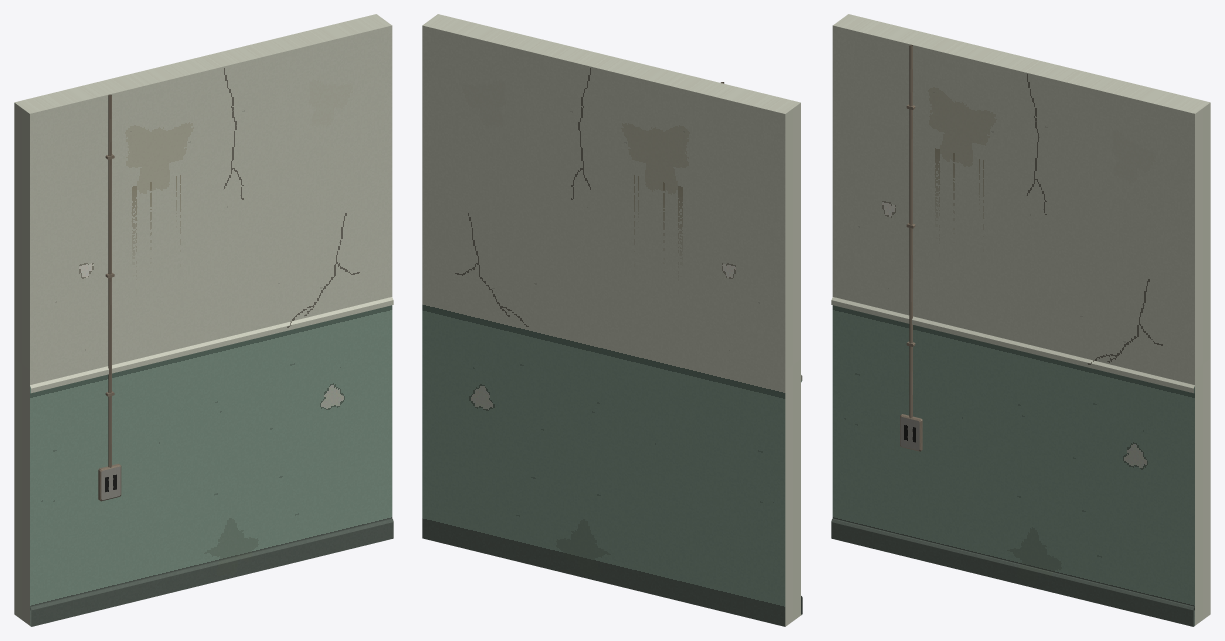
The model's file is wall_3c.glb.
3 renders of one model, left to right at view 1: azimuth 30°, elevation 25°; view 2: azimuth 150°, elevation 25°; view 3: azimuth 330°, elevation 25°, orthographic.
Parts seen in each view (by area): view 1: wall_body, conduit_pipe, outlet_box; view 2: wall_body; view 3: wall_body, conduit_pipe, outlet_box.
Part boxes in pixels (x1=…): wall_body: x1=14, y1=14, x2=393, y2=626; conduit_pipe: x1=108, y1=94, x2=111, y2=467; outlet_box: x1=98, y1=463, x2=121, y2=501; wall_body: x1=422, y1=14, x2=802, y2=626; wall_body: x1=831, y1=14, x2=1210, y2=626; conduit_pipe: x1=909, y1=44, x2=912, y2=418; outlet_box: x1=900, y1=414, x2=922, y2=451.
Size of the model in its own units: 2 by 2.7 by 0.17.
Materials: 1 (1 with a texture image).
